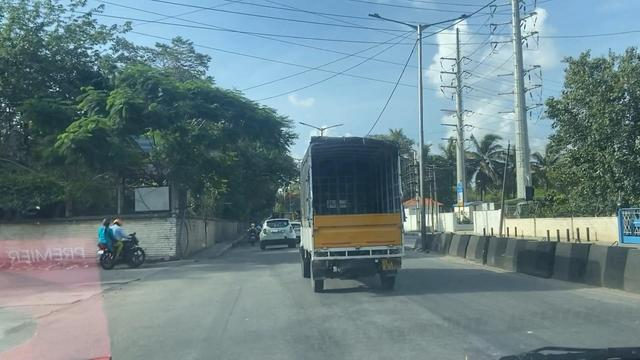HMV: (300, 136, 407, 288)
LMV: (259, 220, 295, 248)
RoadDamages: (0, 266, 156, 339)
